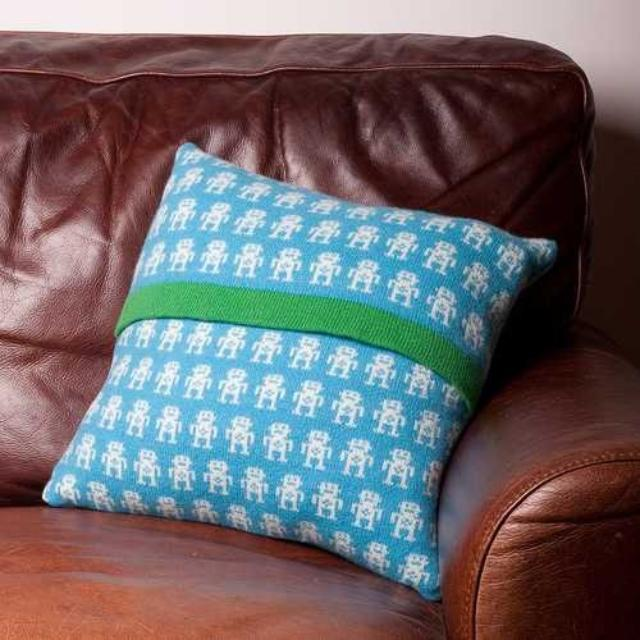pillow: (40, 140, 558, 602)
